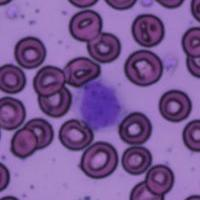L: (74, 77, 128, 132)
